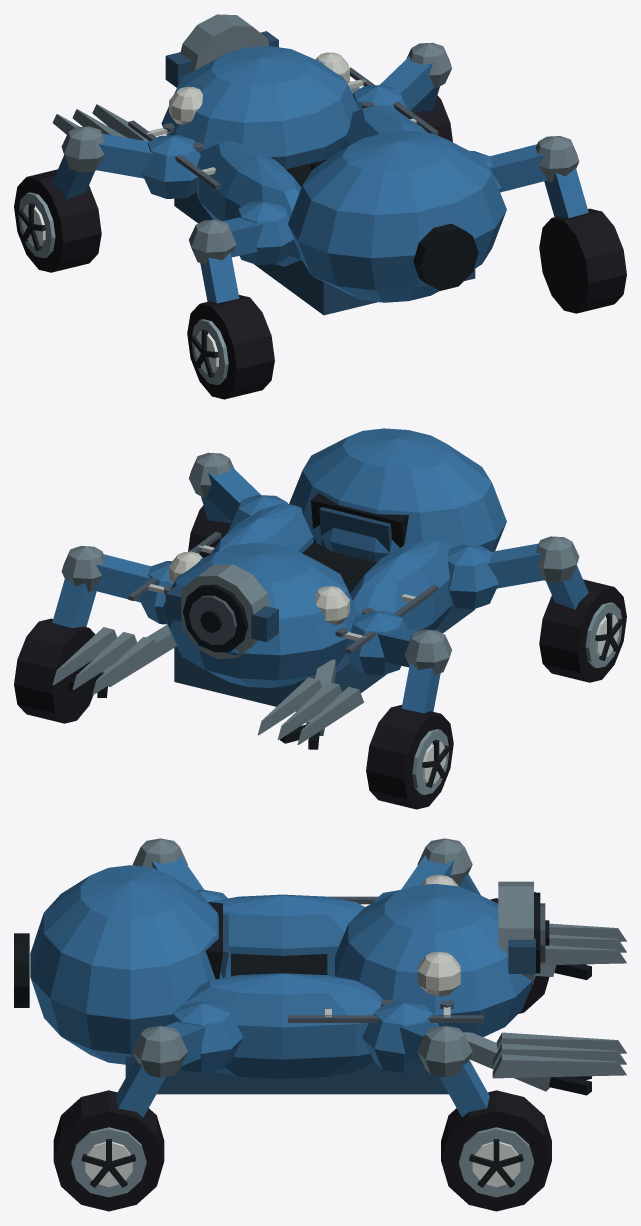
File: kart.glb
The picture shows the model from 3 angles, top to bottom: view 1: azimuth 30°, elevation 25°; view 2: azimuth 150°, elevation 25°; view 3: azimuth 270°, elevation 25°; orthographic projection. The views are drawn at different scales.
Parts seen in each view (by area): view 1: identity-mech-tachikoma-rounded-pod-and-four-articulated-leg, wheel-rear-right, wheel-rear-left, wheel-front-left, identity-mech-motif-optic, identity-mech-motif-circuit, identity-mech-motif-claws, wheel-front-right; view 2: identity-mech-tachikoma-rounded-pod-and-four-articulated-leg, identity-mech-motif-optic, wheel-front-left, identity-mech-motif-claws, wheel-rear-left, wheel-front-right, identity-mech-driver-cockpit, identity-mech-motif-circuit, wheel-rear-right; view 3: identity-mech-tachikoma-rounded-pod-and-four-articulated-leg, wheel-rear-right, wheel-front-right, identity-mech-motif-claws, identity-mech-motif-optic, identity-mech-driver-cockpit, identity-mech-motif-circuit.
Boxes of the visible parts, x1,y1,x2,y2 form: identity-mech-tachikoma-rounded-pod-and-four-articulated-leg: (52, 42, 588, 315); wheel-rear-right: (539, 208, 626, 313); wheel-rear-left: (187, 295, 274, 399); wheel-front-left: (14, 169, 101, 272); identity-mech-motif-optic: (165, 14, 278, 87); identity-mech-motif-circuit: (128, 67, 438, 189); identity-mech-motif-claws: (52, 81, 359, 141); wheel-front-right: (413, 95, 452, 142); identity-mech-tachikoma-rounded-pod-and-four-articulated-leg: (52, 428, 588, 749); identity-mech-motif-optic: (165, 564, 278, 658); wheel-front-left: (366, 705, 453, 809); identity-mech-motif-claws: (52, 627, 363, 744); wheel-rear-left: (539, 579, 626, 682); wheel-front-right: (14, 618, 95, 723); identity-mech-driver-cockpit: (302, 493, 408, 593); identity-mech-motif-circuit: (128, 532, 438, 653); wheel-rear-right: (188, 505, 231, 557); identity-mech-tachikoma-rounded-pod-and-four-articulated-leg: (14, 838, 591, 1117); wheel-rear-right: (53, 1090, 164, 1211); wheel-front-right: (441, 1090, 551, 1211); identity-mech-motif-claws: (492, 923, 626, 1078); identity-mech-motif-optic: (498, 881, 549, 984); identity-mech-driver-cockpit: (206, 902, 327, 979); identity-mech-motif-circuit: (288, 896, 483, 1022).
Size of the model in its own units: 2.66 by 1.25 by 3.1.
